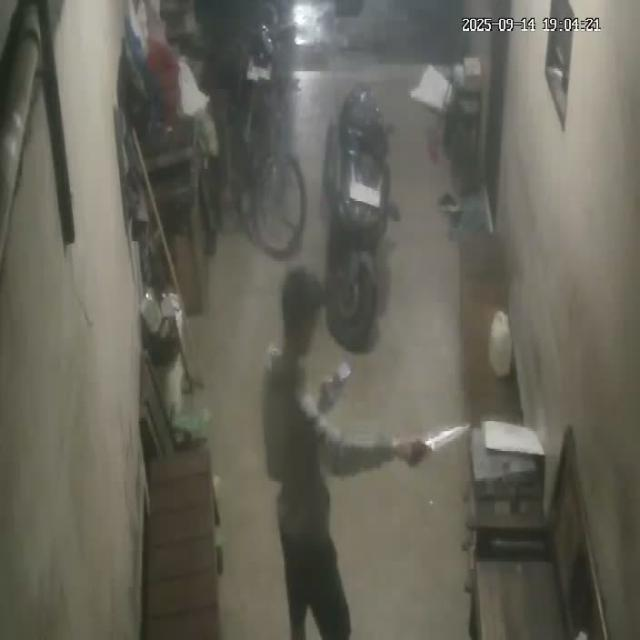senjata_tajam: (425, 422, 473, 450)
